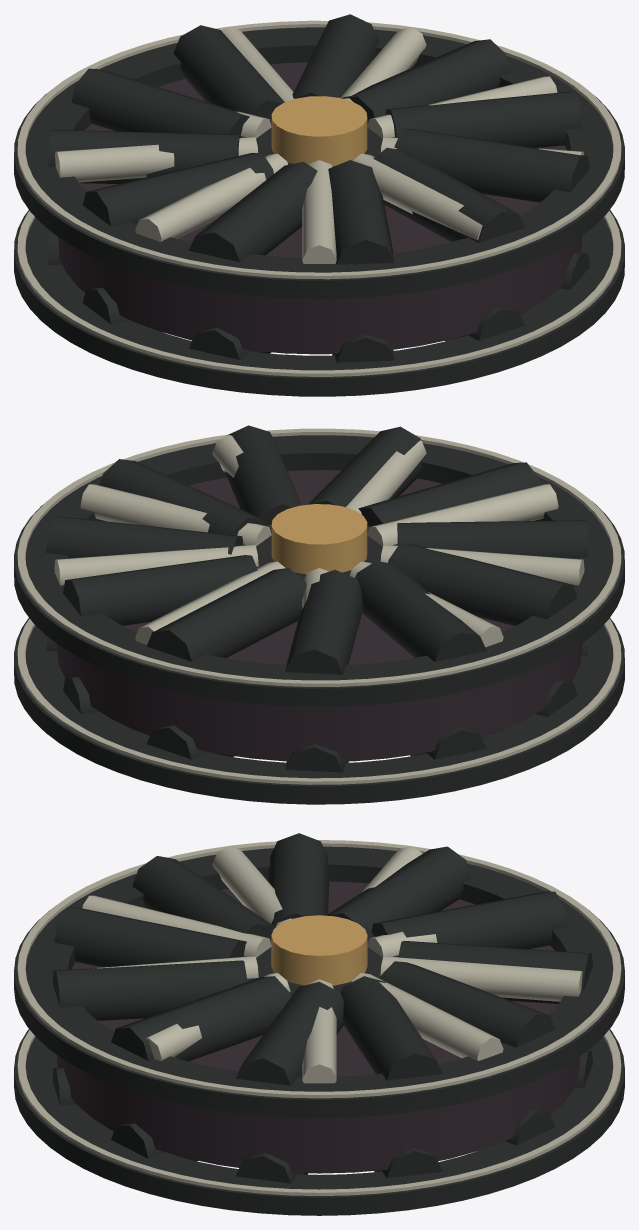
Rendered from Traveller.glb.
The picture shows the model from 3 angles, top to bottom: view 1: azimuth 30°, elevation 25°; view 2: azimuth 150°, elevation 25°; view 3: azimuth 270°, elevation 25°; orthographic projection.
Visible parts, largest first — view 1: Pressed web (×16), Stamped outer rim (×2), Wound silk, Raised spoke (×8), Pressed lip (×2), Spindle, Spool hub; view 2: Pressed web (×16), Stamped outer rim (×2), Wound silk, Raised spoke (×8), Pressed lip (×2), Spindle, Spool hub; view 3: Pressed web (×16), Stamped outer rim (×2), Wound silk, Raised spoke (×9), Pressed lip (×2), Spindle, Spool hub.
Part boxes in pixels (<box>): Pressed web (×16): <box>48,14,590,362</box>; Stamped outer rim (×2): <box>14,27,624,396</box>; Wound silk: <box>58,62,581,354</box>; Raised spoke (×8): <box>55,27,557,263</box>; Pressed lip (×2): <box>17,20,621,376</box>; Spindle: <box>271,96,367,166</box>; Spool hub: <box>240,119,395,166</box>; Pressed web (×16): <box>46,425,587,772</box>; Stamped outer rim (×2): <box>14,435,624,804</box>; Wound silk: <box>57,470,581,761</box>; Raised spoke (×8): <box>54,435,584,647</box>; Pressed lip (×2): <box>17,428,621,784</box>; Spindle: <box>271,504,367,574</box>; Spool hub: <box>243,524,397,579</box>; Pressed web (×16): <box>52,833,592,1183</box>; Stamped outer rim (×2): <box>14,846,624,1215</box>; Wound silk: <box>57,881,580,1173</box>; Raised spoke (×9): <box>82,846,582,1083</box>; Pressed lip (×2): <box>17,840,621,1195</box>; Spindle: <box>271,915,367,985</box>; Spool hub: <box>243,934,398,997</box>.
Size of the model in its own units: 0.85 by 0.253 by 0.85.
